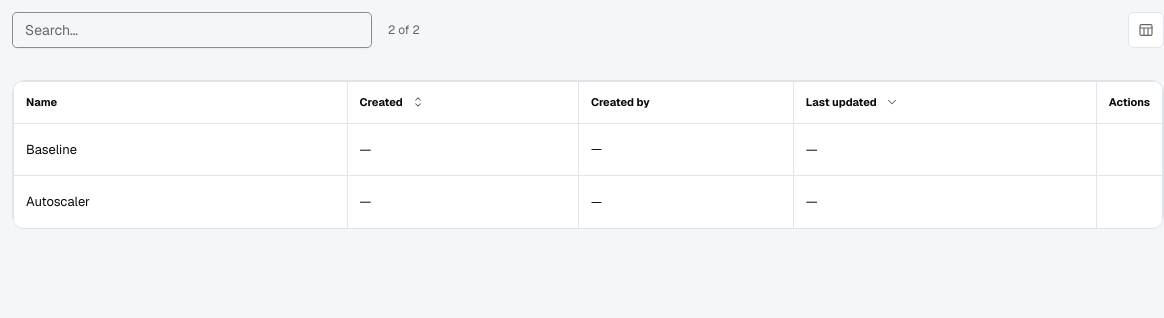
searches resources and provides a way to clear an empty search
Type "base" into the search field named "Search configurations" at (192, 30), box x1=12 y1=12 x2=372 y2=48
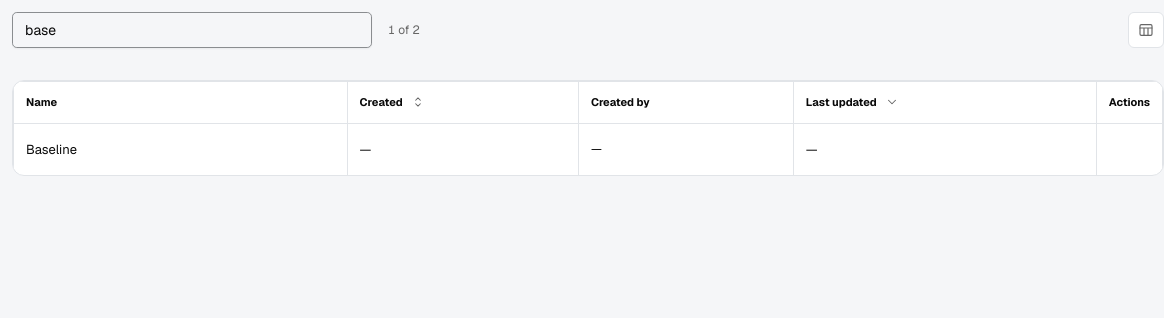
Expected: the text "Baseline" is shown, x1=14 y1=123 x2=347 y2=175
Now the text "Autoscaler" is gone
Replace the text in the search field named "Search configurations" with "missing" at (192, 30), box x1=12 y1=12 x2=372 y2=48
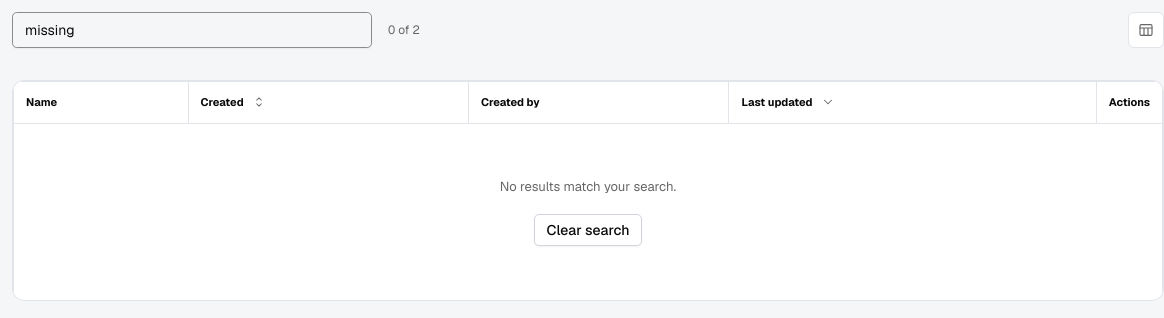
Now the text "No results match your search." is shown, box x1=500 y1=177 x2=676 y2=198
Click the button "Clear search" at (588, 230), box x1=534 y1=214 x2=642 y2=246
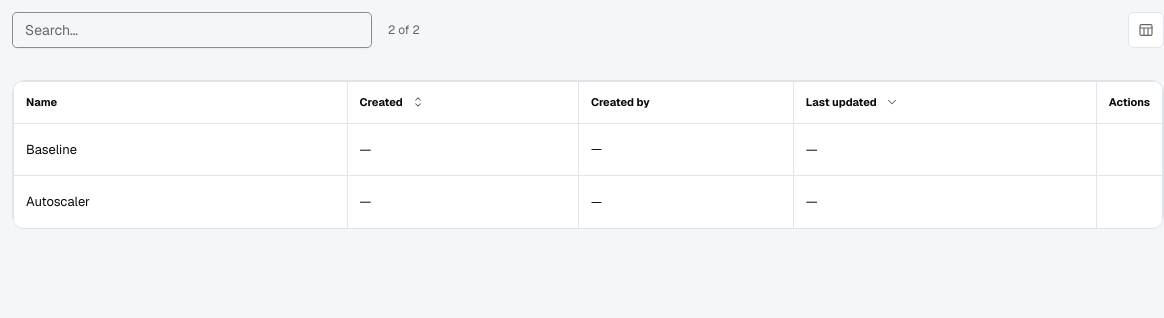
Now the text "Autoscaler" is shown, box x1=14 y1=176 x2=347 y2=228
